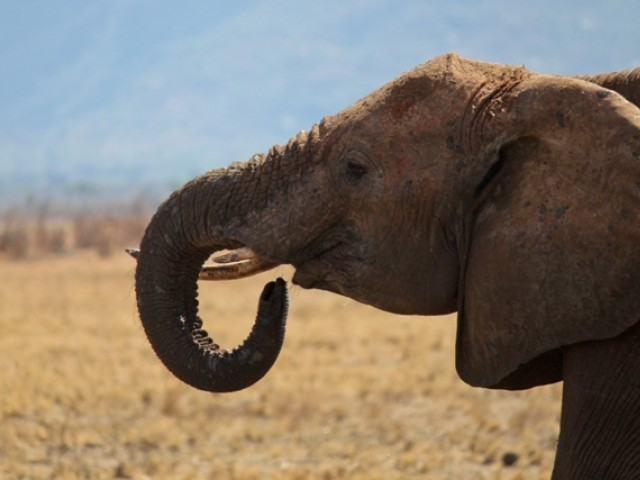elephant: (112, 40, 640, 474)
